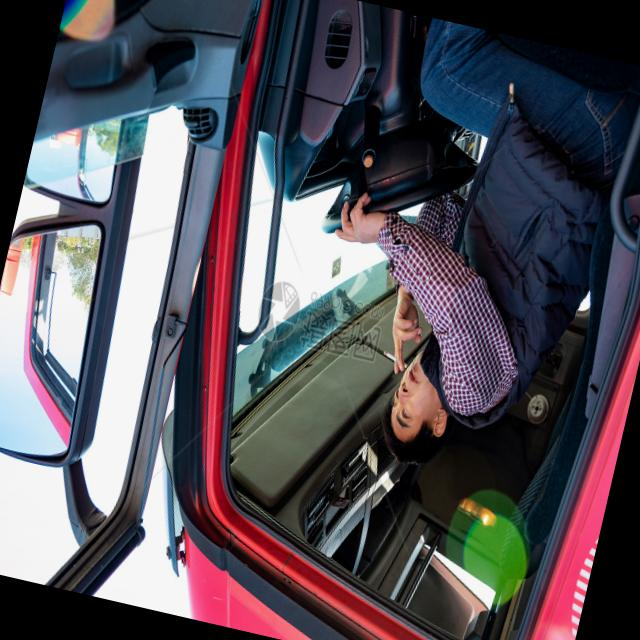smoke: (373, 342, 412, 372)
